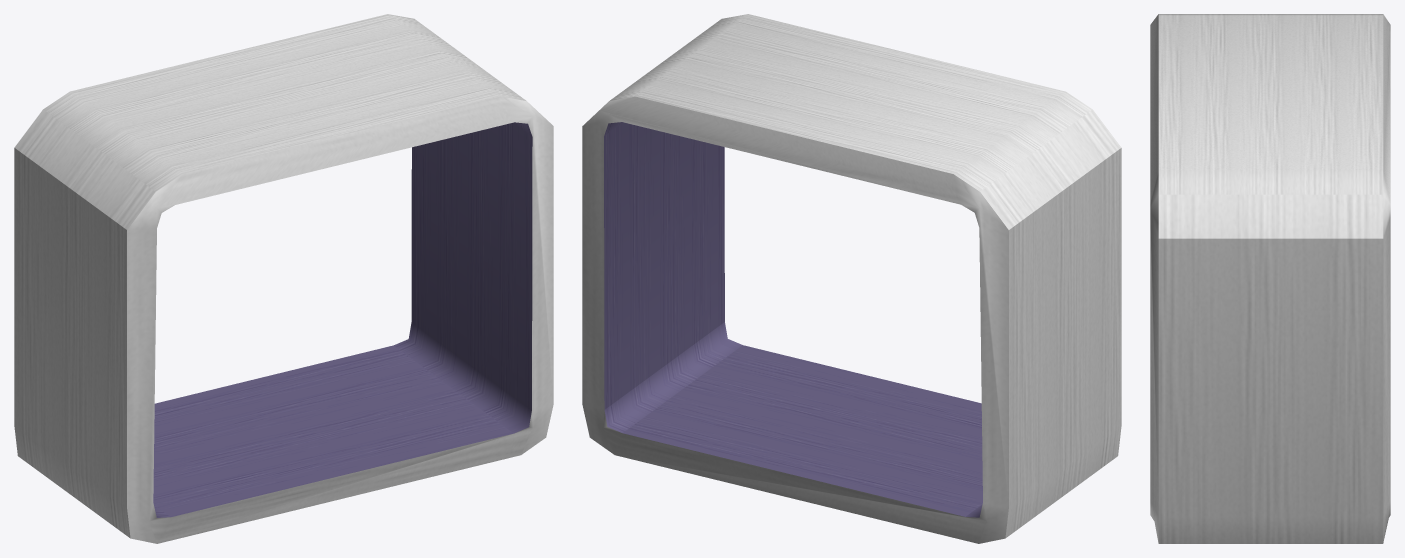
Rendered from Wall_Shelf_02_J.FBX.
3 views of the same model, side by side, from view 1: azimuth 30°, elevation 25°; view 2: azimuth 150°, elevation 25°; view 3: azimuth 270°, elevation 25° (orthographic).
Visible parts, largest first — view 1: Wall_Shelf_02; view 2: Wall_Shelf_02; view 3: Wall_Shelf_02.
Part boxes in pixels (x1,y1,x2,y2): Wall_Shelf_02: (14,14,553,543); Wall_Shelf_02: (582,14,1121,543); Wall_Shelf_02: (1150,14,1390,543).
Bounding box in the file's own units: 120 × 98.08 × 58.85.
